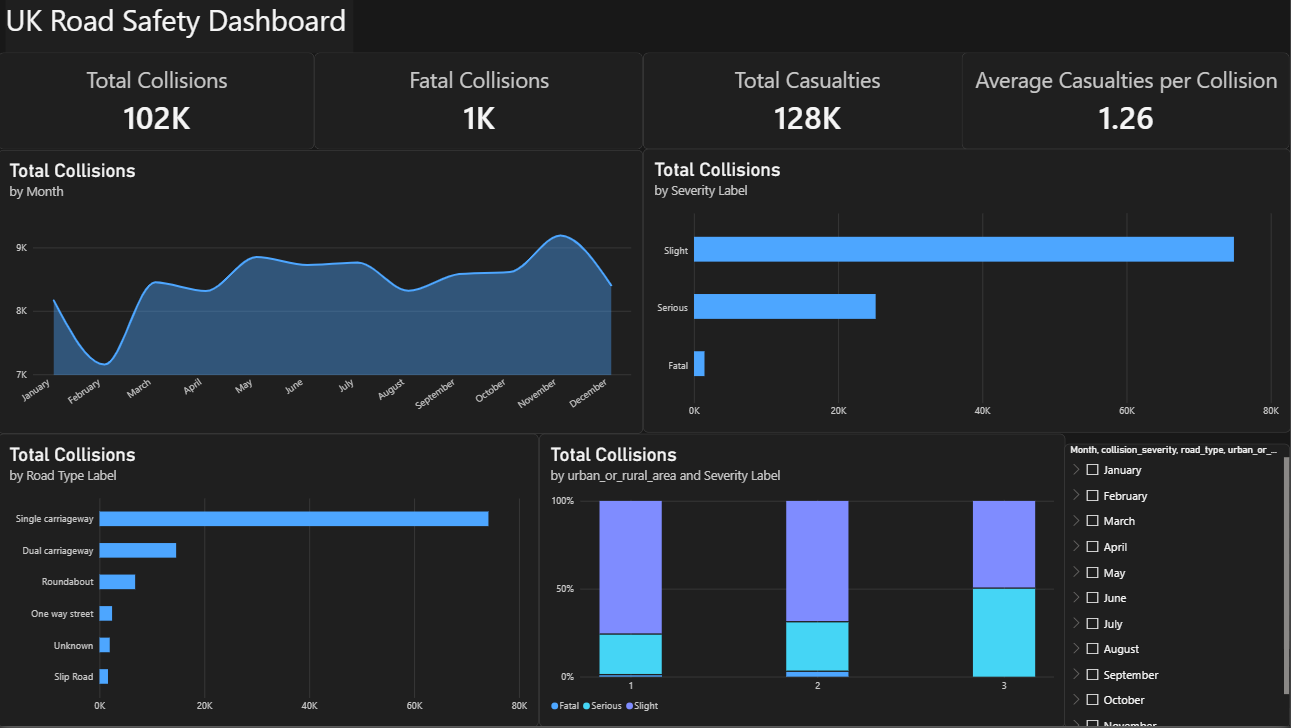

The dashboard page shown, as its layout file describes it:
{"tool":"powerbi","page":{"name":"Page 1","canvas":[1920,1080],"ordinal":0},"visuals":[{"type":"textbox","box":[10.3,0,516.6,78.2],"z":0},{"type":"cardVisual","fields":{"Data":["FactCollisions.Total Collisions"]},"box":[0,77.8,470.5,144.8],"z":1},{"type":"cardVisual","fields":{"Data":["FactCollisions.Fatal Collisions"]},"box":[470.5,77.8,488.6,144.8],"z":2},{"type":"cardVisual","fields":{"Data":["FactCollisions.Total Casualties"]},"box":[959.2,78.2,487.8,144.1],"z":3},{"type":"cardVisual","fields":{"Data":["FactCollisions.Average Casualties per Collision"]},"box":[1432.6,78.2,487.8,144.1],"z":4},{"type":"areaChart","fields":{"Category":["DimDate.date.Variation.Date Hierarchy.Month"],"Y":["FactCollisions.Total Collisions"]},"box":[0,222.9,958.3,421.6],"z":5},{"type":"clusteredBarChart","fields":{"Category":["DimSeverity.Severity Label"],"Y":["FactCollisions.Total Collisions"]},"box":[958.3,221,962,421.6],"z":6},{"type":"clusteredBarChart","fields":{"Category":["DimRoadType.Road Type Label"],"Y":["FactCollisions.Total Collisions"]},"box":[0,644.2,803.5,436.1],"z":7},{"type":"hundredPercentStackedColumnChart","fields":{"Category":["FactCollisions.urban_or_rural_area"],"Series":["DimSeverity.Severity Label"],"Y":["FactCollisions.Total Collisions"]},"box":[803.5,644.2,781.8,436.1],"z":8},{"type":"slicer","fields":{"Values":["DimDate.date.Variation.Date Hierarchy.Month","FactCollisions.collision_severity","FactCollisions.road_type","FactCollisions.urban_or_rural_area"]},"box":[1584.2,659.3,335,422],"z":9}]}

Visuals, with their boxes in screenshot pixels (x1, y1, x2, y2), scaled from the page's 1920x1080 canvas onto the 1291x728 screenshot:
textbox: (7,0,354,53)
cardVisual - FactCollisions.Total Collisions: (0,52,316,150)
cardVisual - FactCollisions.Fatal Collisions: (316,52,645,150)
cardVisual - FactCollisions.Total Casualties: (645,53,973,150)
cardVisual - FactCollisions.Average Casualties per Collision: (963,53,1290,150)
areaChart - DimDate.date.Variation.Date Hierarchy.Month x FactCollisions.Total Collisions: (0,150,644,434)
clusteredBarChart - DimSeverity.Severity Label x FactCollisions.Total Collisions: (644,149,1290,433)
clusteredBarChart - DimRoadType.Road Type Label x FactCollisions.Total Collisions: (0,434,540,727)
hundredPercentStackedColumnChart - FactCollisions.urban_or_rural_area x DimSeverity.Severity Label: (540,434,1066,727)
slicer - DimDate.date.Variation.Date Hierarchy.Month x FactCollisions.collision_severity: (1065,444,1290,727)
